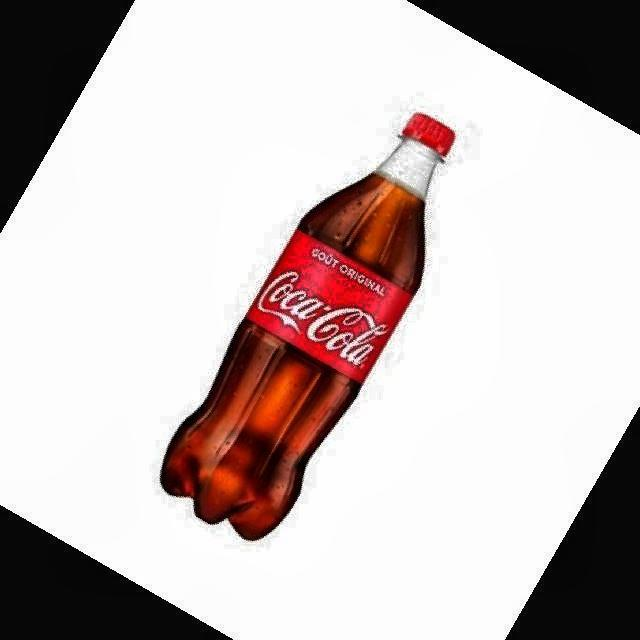plastic: (161, 114, 455, 539)
